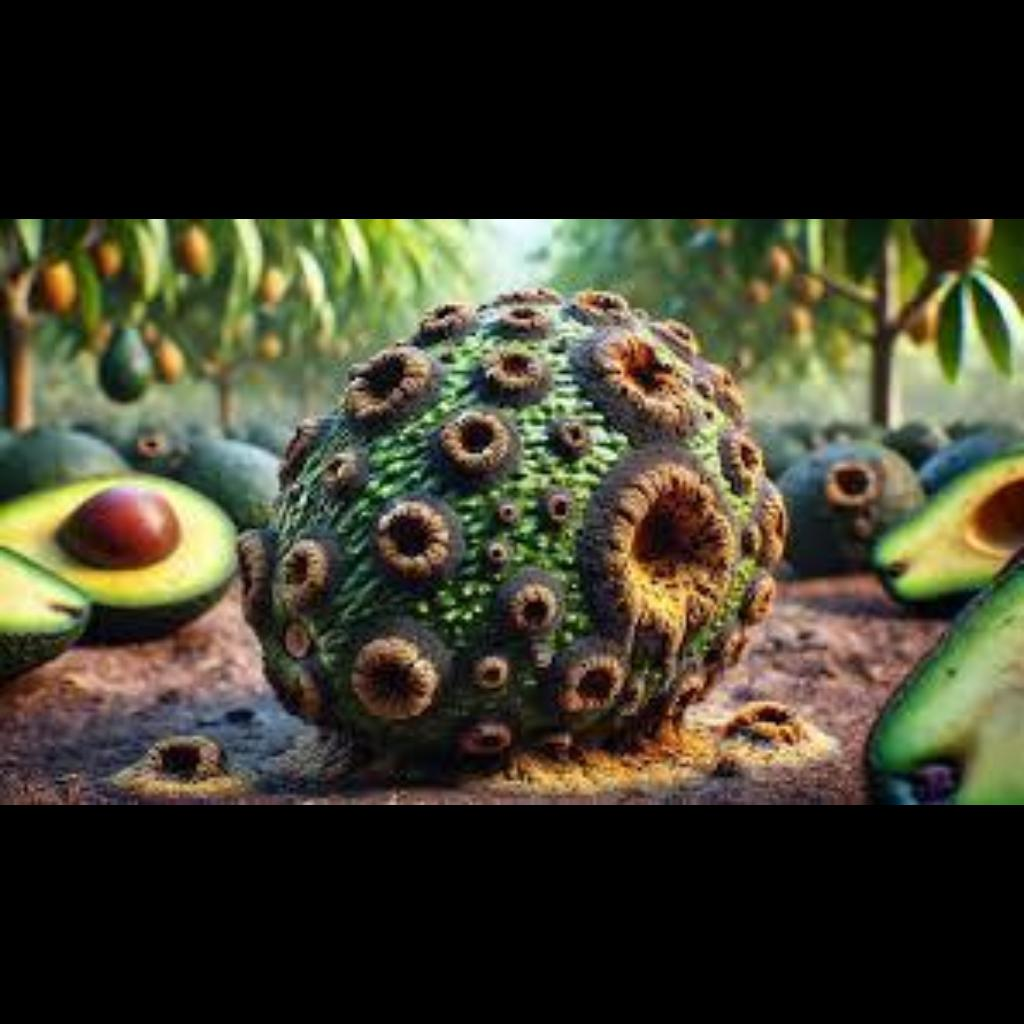Anthracnose: (344, 322, 738, 712)
